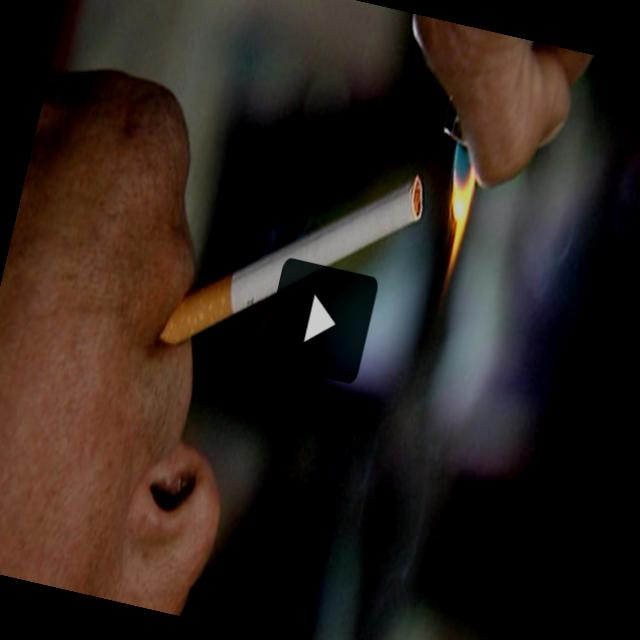smoke: (212, 133, 429, 359)
